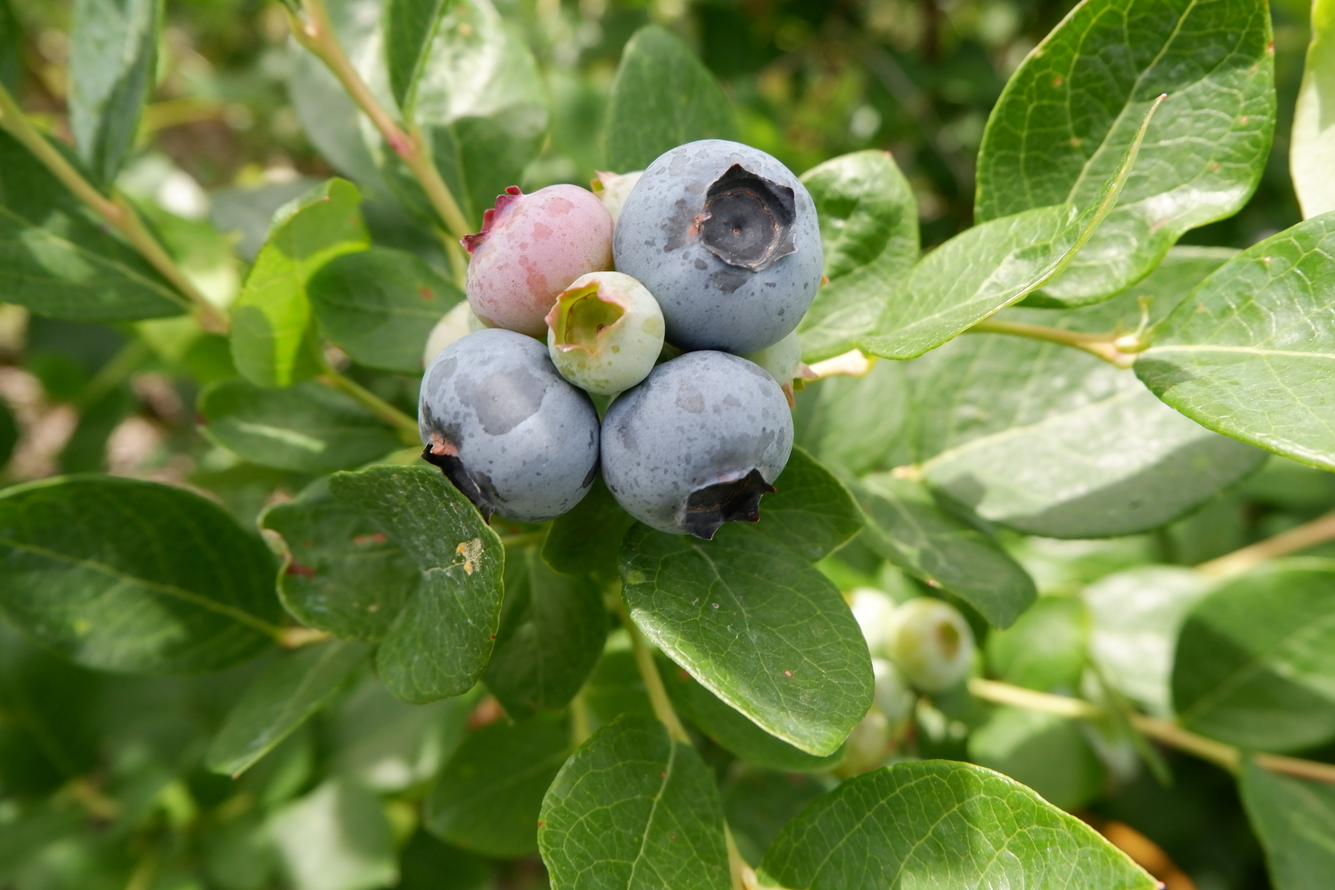Immature: (464, 188, 612, 334), (548, 273, 661, 394), (423, 296, 495, 371), (752, 334, 812, 402), (593, 171, 638, 227)
Mature: (620, 143, 822, 348), (603, 355, 791, 532), (422, 330, 595, 521)
